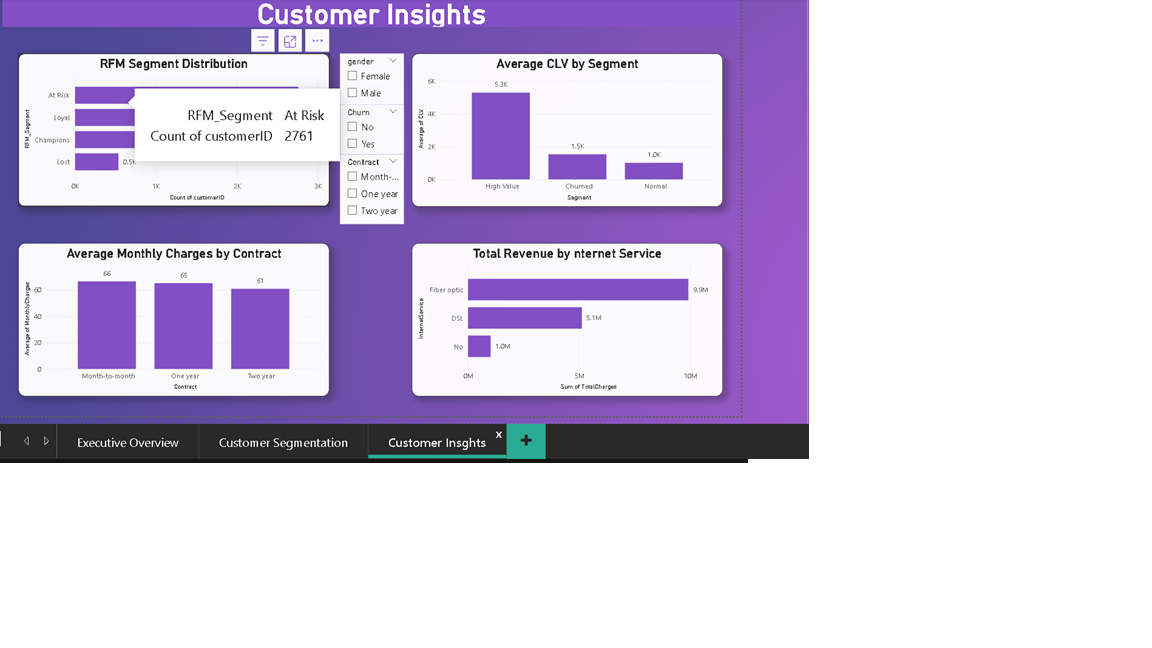

The page's visual inventory and layout, read from the dashboard file:
{"tool":"powerbi","page":{"name":"Customer Insghts","canvas":[1280,720],"ordinal":2},"visuals":[{"type":"textbox","title":"Customer Insights","box":[10.5,0,1269.9,50.7],"z":0},{"type":"clusteredBarChart","title":"RFM Segment Distribution","fields":{"Category":["customer_churn_cleaned.RFM_Segment"],"Y":["CountNonNull(customer_churn_cleaned.customerID)"]},"box":[38.4,96.1,534.5,263.8],"z":1000},{"type":"clusteredBarChart","title":"Total Revenue by nternet Service","fields":{"Category":["customer_churn_cleaned.InternetService"],"Y":["Sum(customer_churn_cleaned.TotalCharges)"]},"box":[714.4,422.7,534.5,263.8],"z":2000},{"type":"clusteredColumnChart","title":"Average Monthly Charges by Contract","fields":{"Category":["customer_churn_cleaned.Contract"],"Y":["Avg(customer_churn_cleaned.MonthlyCharges)"]},"box":[38.4,422.7,534.5,263.8],"z":3000},{"type":"clusteredColumnChart","title":"Average CLV by Segment","fields":{"Category":["customer_churn_cleaned.Segment"],"Y":["Avg(customer_churn_cleaned.CLV)"]},"box":[714.4,96.1,534.5,263.8],"z":4000},{"type":"slicer","fields":{"Values":["customer_churn_cleaned.gender"]},"box":[590.4,96.1,110,87.3],"z":5000},{"type":"slicer","fields":{"Values":["customer_churn_cleaned.Churn"]},"box":[590.4,183.4,110,85.6],"z":6000},{"type":"slicer","fields":{"Values":["customer_churn_cleaned.Contract"]},"box":[590.4,269,110,120.5],"z":7000}]}

Visuals, with their boxes on the page's 1280x720 design canvas (x1, y1, x2, y2). These are canvas units, not pixel positions in the 1152x648 screenshot, which may show the page scaled, cropped or inside an application window:
"Customer Insights" textbox: x1=10 y1=0 x2=1280 y2=51
"RFM Segment Distribution" clusteredBarChart: x1=38 y1=96 x2=573 y2=360
"Total Revenue by nternet Service" clusteredBarChart: x1=714 y1=423 x2=1249 y2=686
"Average Monthly Charges by Contract" clusteredColumnChart: x1=38 y1=423 x2=573 y2=686
"Average CLV by Segment" clusteredColumnChart: x1=714 y1=96 x2=1249 y2=360
slicer - customer_churn_cleaned.gender: x1=590 y1=96 x2=700 y2=183
slicer - customer_churn_cleaned.Churn: x1=590 y1=183 x2=700 y2=269
slicer - customer_churn_cleaned.Contract: x1=590 y1=269 x2=700 y2=390
